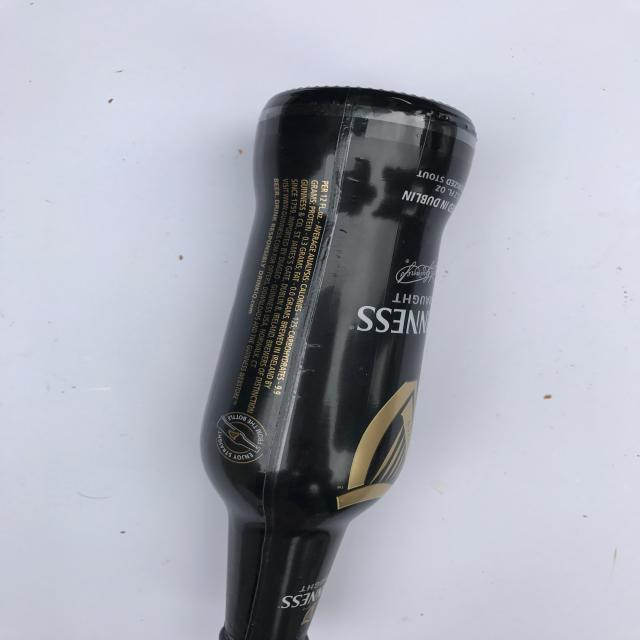Glass: (183, 70, 480, 640)
